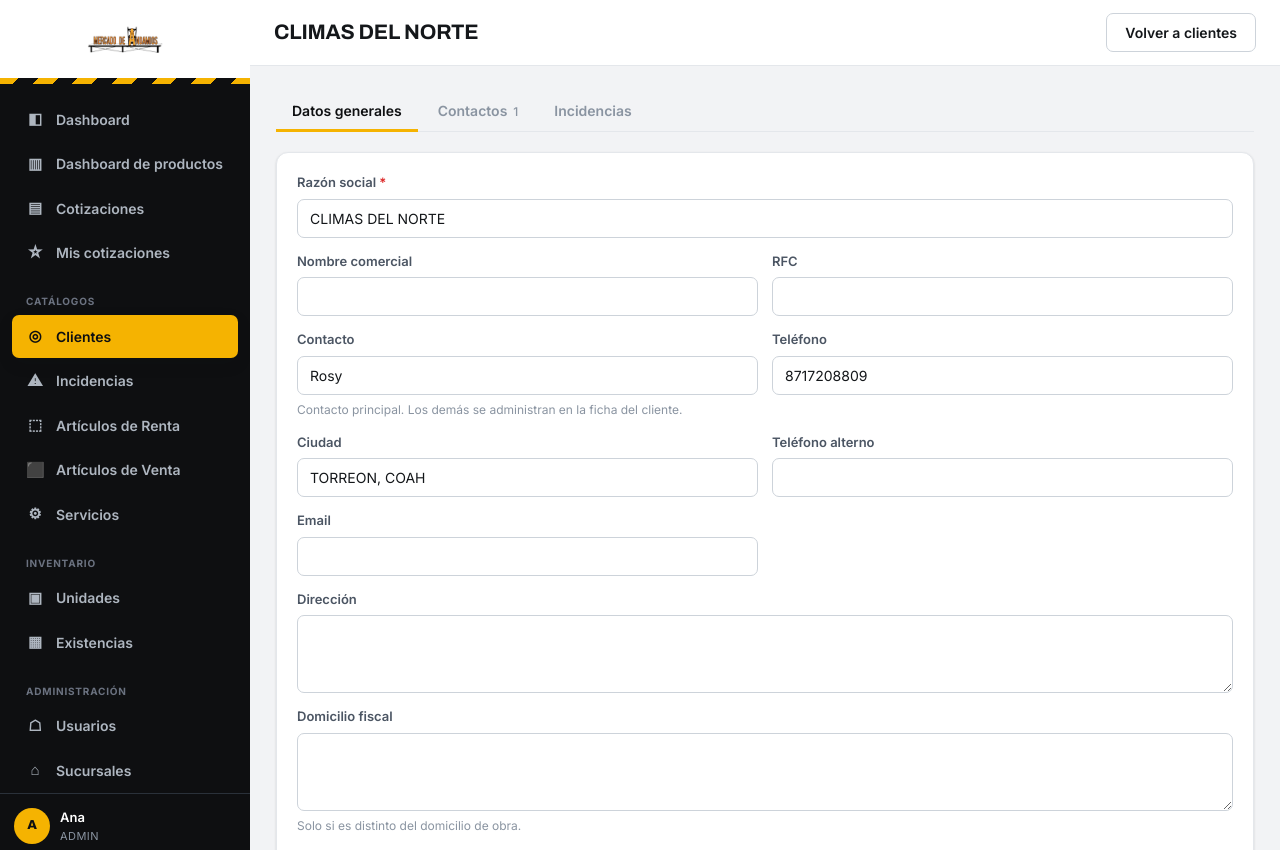
Test: ClienteDetalle — contactos › avisa cuando el cliente tiene contactos pero ninguno principal
Step 1. Click the button "Contactos1" → (478, 112), box left=422, top=92, right=534, bottom=132
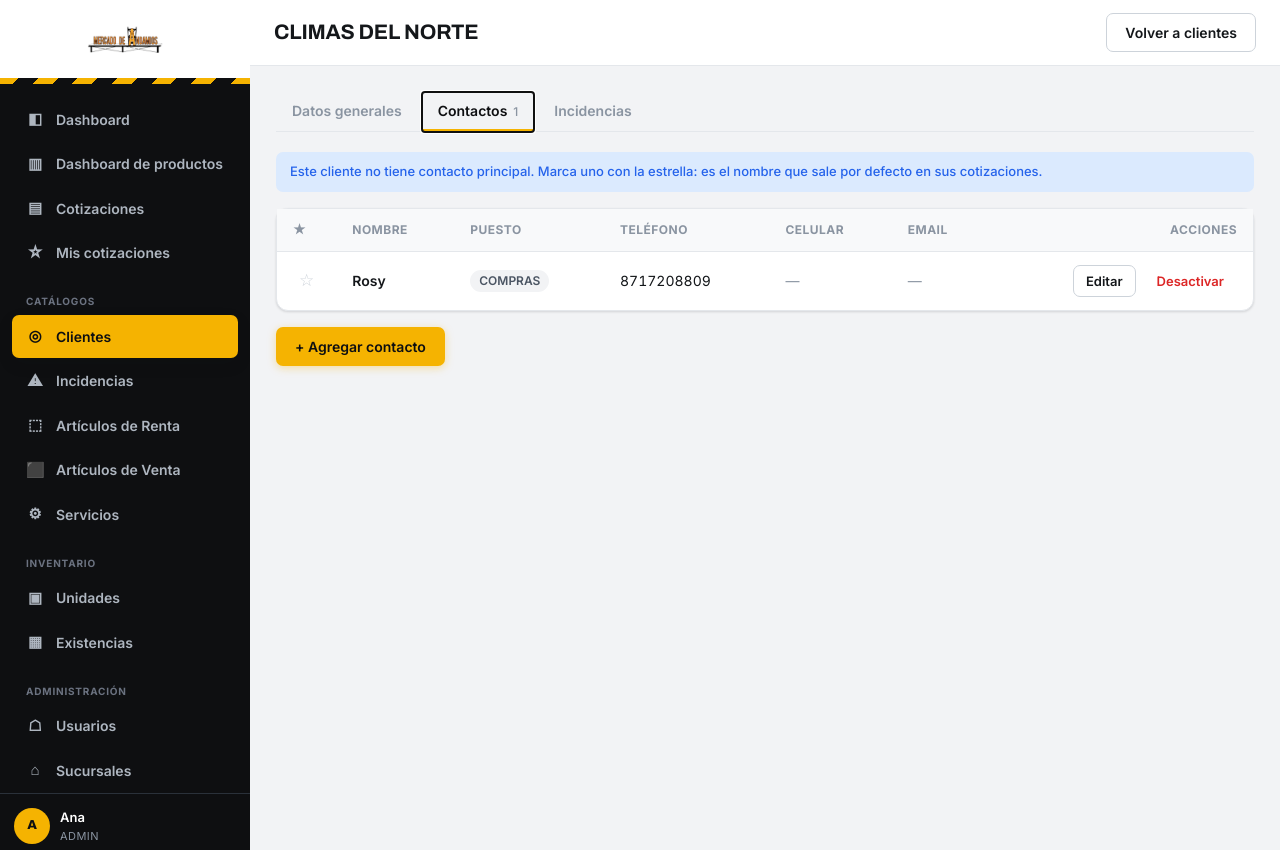
Check: the text "no tiene contacto principal" is shown, box left=290, top=163, right=1043, bottom=179
